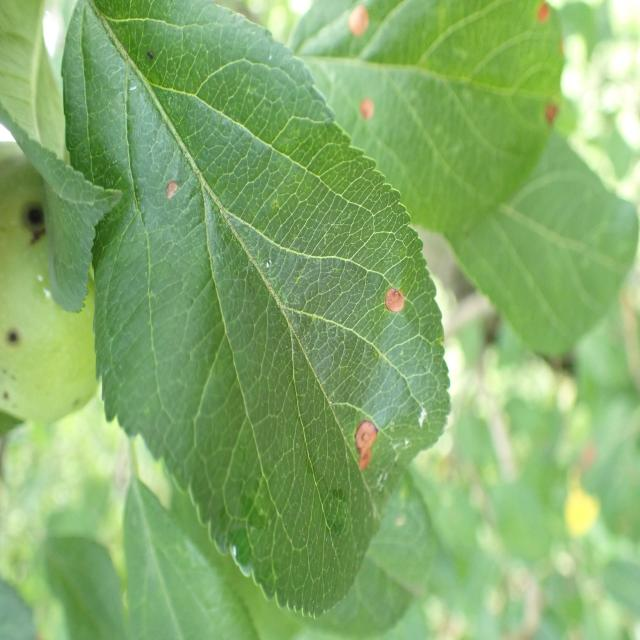Black Rot: (344, 390, 386, 490), (352, 82, 391, 146), (379, 276, 421, 330), (344, 0, 382, 46), (147, 170, 186, 206)
